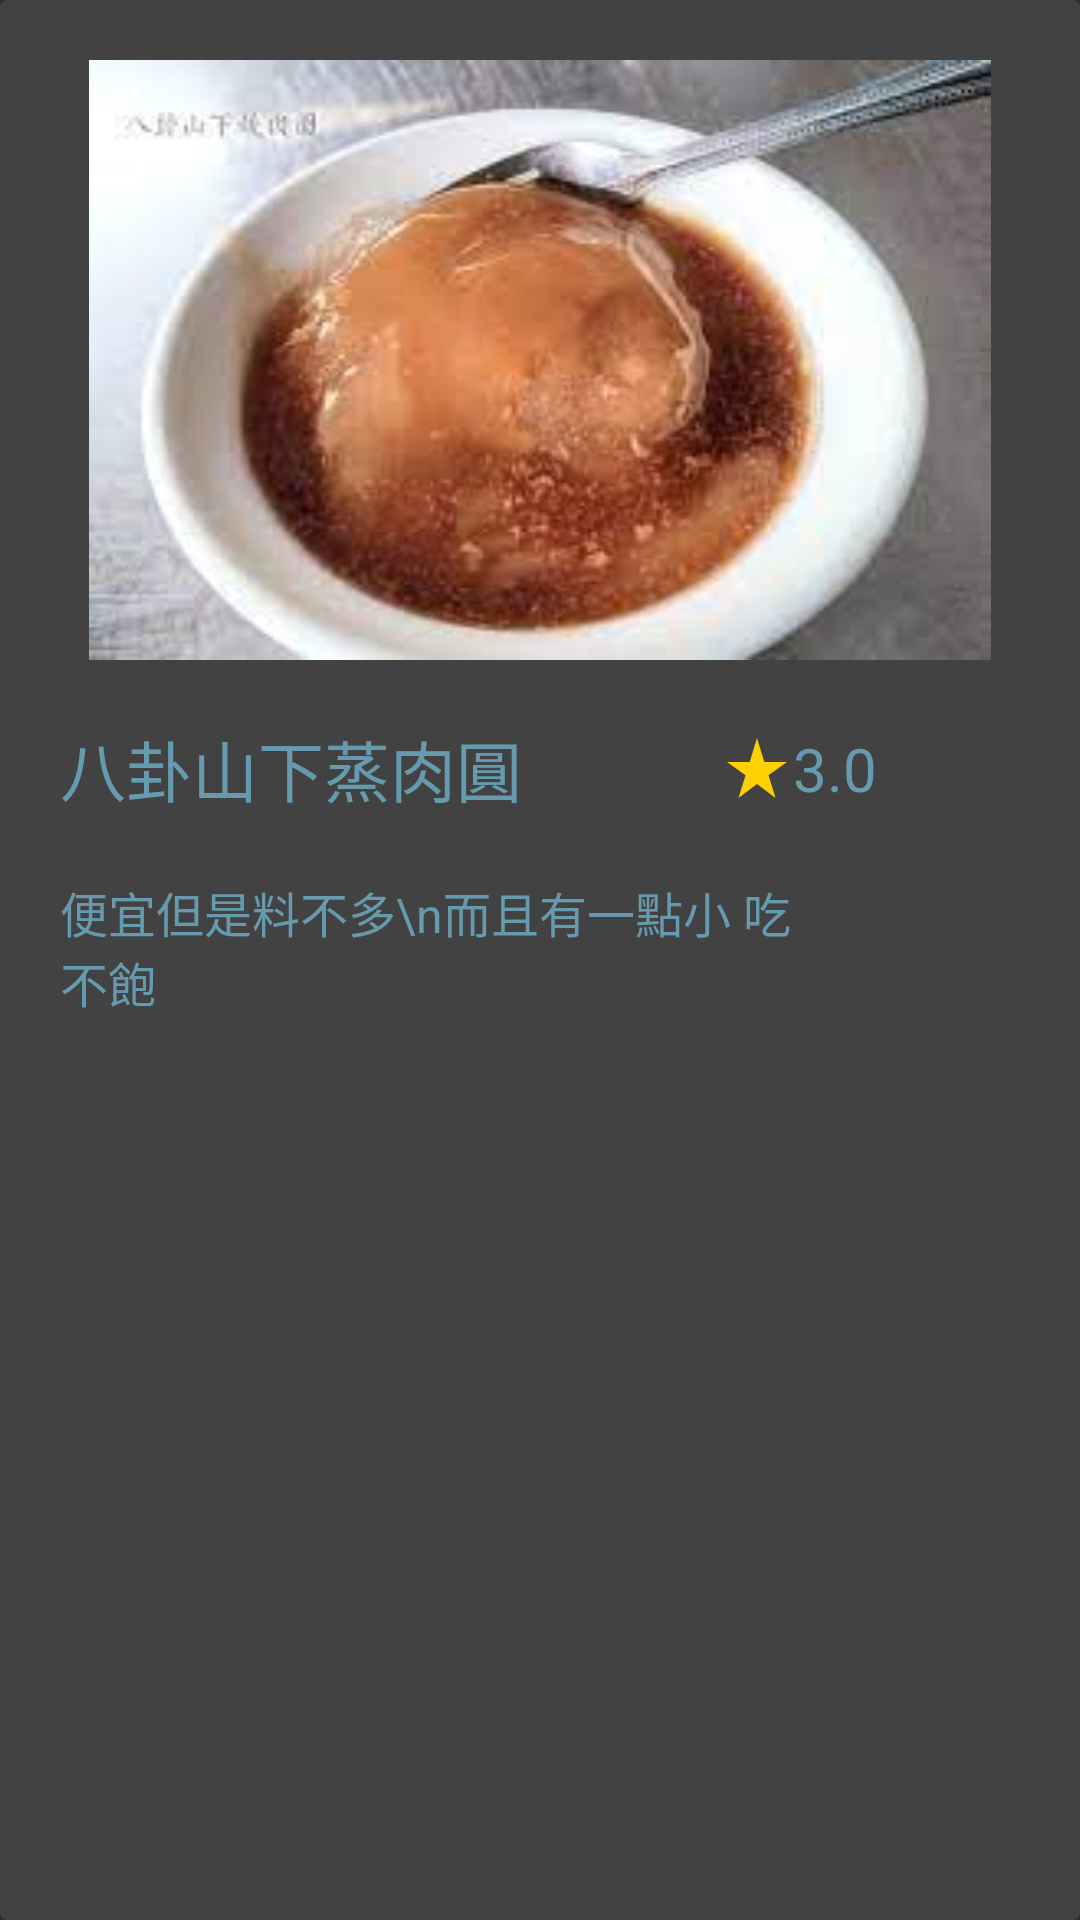

Screen size 1080px×1920px. Icon name, then its center in pixels as [x,y]:
star rate: [757,768]
